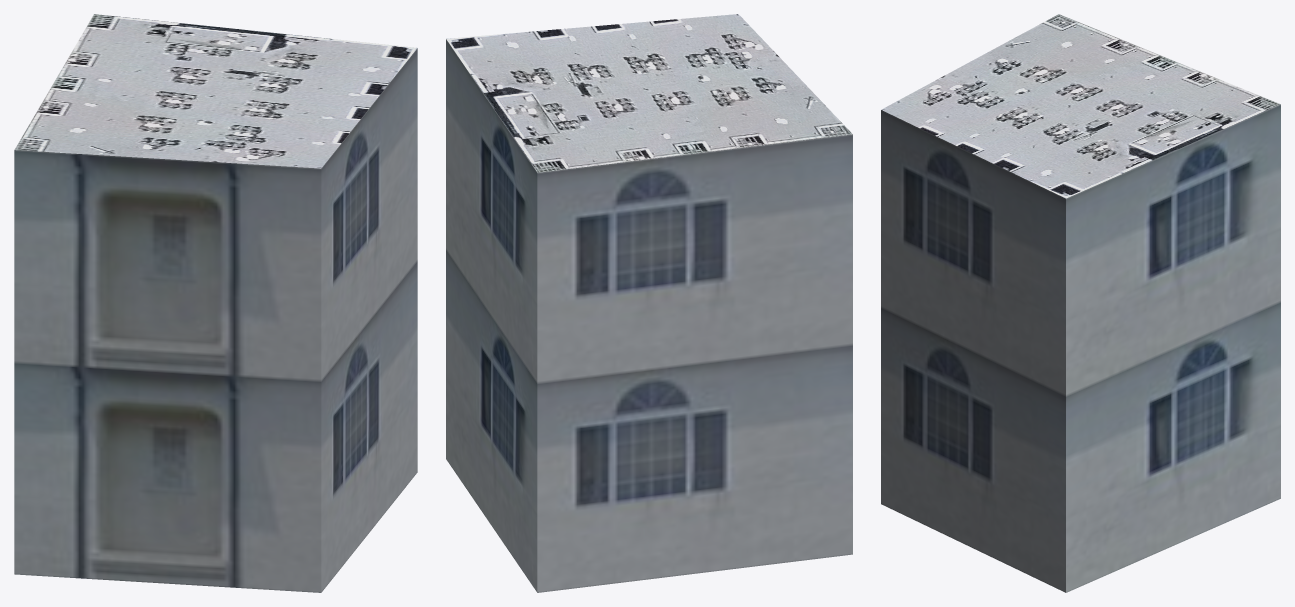
File: ResTex__2506.fbx
3 views of the same model, side by side, from view 1: azimuth 30°, elevation 25°; view 2: azimuth 150°, elevation 25°; view 3: azimuth 270°, elevation 25° (orthographic). The views are drawn at different scales.
Visible parts, largest first — view 1: CityEngineMaterial_17_m, CityEngineMaterial_m; view 2: CityEngineMaterial_17_m, CityEngineMaterial_m; view 3: CityEngineMaterial_17_m, CityEngineMaterial_m.
Boxes of the visible parts, x1,y1,x2,y2 form: CityEngineMaterial_17_m: [14, 48, 417, 592]; CityEngineMaterial_m: [14, 14, 417, 168]; CityEngineMaterial_17_m: [446, 39, 852, 592]; CityEngineMaterial_m: [446, 14, 852, 172]; CityEngineMaterial_17_m: [881, 104, 1280, 592]; CityEngineMaterial_m: [881, 14, 1280, 198].
Size of the model in its own units: 6.03 by 6 by 5.51.
2 materials, 2 textured.
